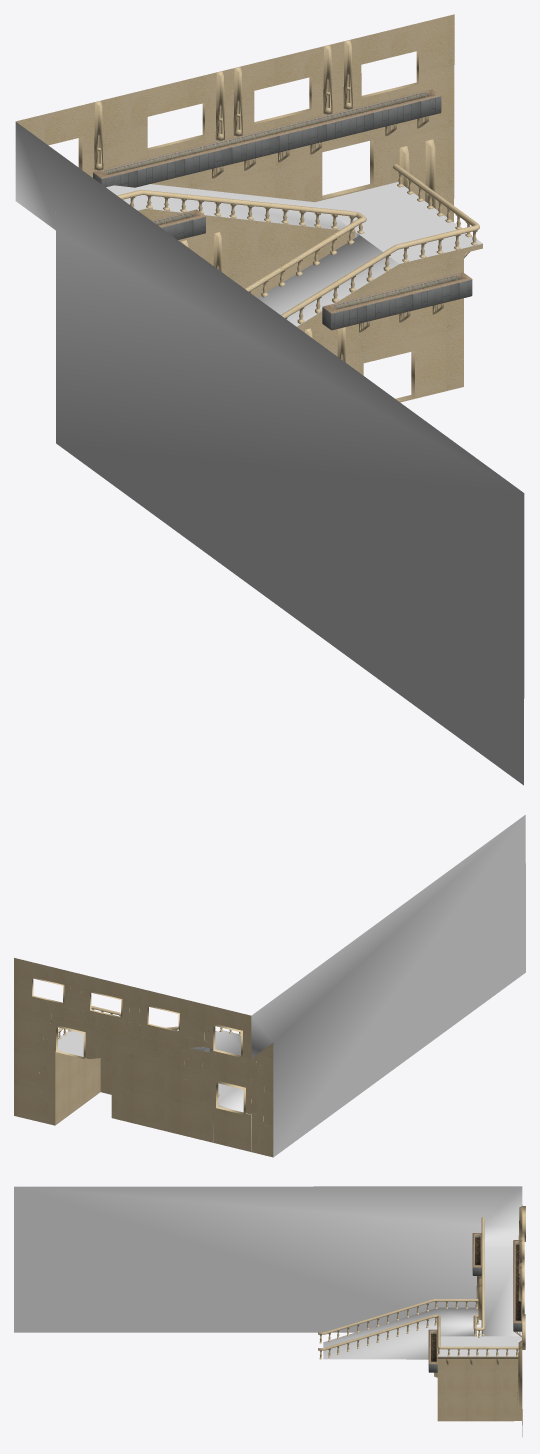
Rendered from Skl.Yard_Entrance.fbx.
3 renders of one model, top to bottom at view 1: azimuth 30°, elevation 25°; view 2: azimuth 150°, elevation 25°; view 3: azimuth 270°, elevation 25°, orthographic. The views are drawn at different scales.
Visible parts, largest first — view 1: Skl_Yard_Entrance, Skl_Yard_Entrance_002, Where_da_plantsStay_002, Skl_Yard_Entrance_004, Skl_Yard_Entrance_010, Gotham_Co9_001, Where_da_plantsStay_001, Gotham_Co9_000, Skl_Yard_Entrance_007, Where_da_plantsStay_000, Skl_Yard_Entrance_006; view 2: Skl_Yard_Entrance, Skl_Yard_Entrance_002, Skl_Yard_Entrance_005, Skl_Yard_Entrance_007, Skl_Yard_Entrance_004; view 3: Skl_Yard_Entrance, Skl_Yard_Entrance_005, Gotham_Co9_001, Skl_Yard_Entrance_004, Skl_Yard_Entrance_010, Gotham_Co9_000, Where_da_plantsStay_002, Skl_Yard_Entrance_007, Where_da_plantsStay_001, Where_da_plantsStay_000.
Boxes of the visible parts, <box> form: Skl_Yard_Entrance: <box>15,122,524,785</box>; Skl_Yard_Entrance_002: <box>16,14,482,402</box>; Where_da_plantsStay_002: <box>93,89,441,187</box>; Skl_Yard_Entrance_004: <box>315,182,482,263</box>; Skl_Yard_Entrance_010: <box>94,40,435,362</box>; Gotham_Co9_001: <box>117,164,479,318</box>; Where_da_plantsStay_001: <box>322,272,472,330</box>; Gotham_Co9_000: <box>130,171,477,324</box>; Skl_Yard_Entrance_007: <box>78,50,418,198</box>; Where_da_plantsStay_000: <box>151,209,205,239</box>; Skl_Yard_Entrance_006: <box>212,116,469,332</box>; Skl_Yard_Entrance: <box>213,815,525,1157</box>; Skl_Yard_Entrance_002: <box>14,958,273,1157</box>; Skl_Yard_Entrance_005: <box>55,1051,100,1125</box>; Skl_Yard_Entrance_007: <box>32,977,245,1114</box>; Skl_Yard_Entrance_004: <box>58,1031,83,1056</box>; Skl_Yard_Entrance: <box>14,1186,522,1359</box>; Skl_Yard_Entrance_005: <box>437,1356,521,1421</box>; Gotham_Co9_001: <box>318,1217,518,1350</box>; Skl_Yard_Entrance_004: <box>437,1336,521,1356</box>; Skl_Yard_Entrance_010: <box>434,1206,522,1406</box>; Gotham_Co9_000: <box>319,1301,518,1359</box>; Where_da_plantsStay_002: <box>513,1240,522,1331</box>; Skl_Yard_Entrance_007: <box>522,1206,525,1349</box>; Where_da_plantsStay_001: <box>428,1329,437,1372</box>; Where_da_plantsStay_000: <box>472,1233,481,1275</box>.
Bounding box in the file's own units: 24.31 × 15.45 × 49.07.
Materials: 3 (2 with a texture image).
